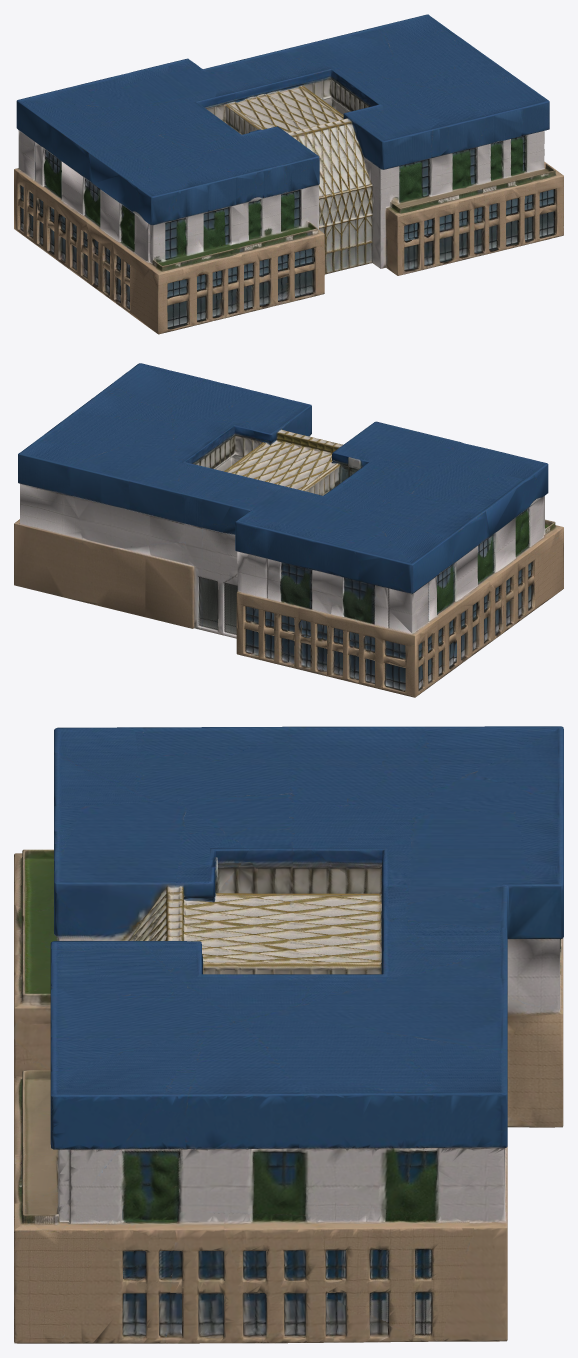
File: bluehall_lod1.glb
The picture shows the model from 3 angles, top to bottom: view 1: azimuth 30°, elevation 25°; view 2: azimuth 150°, elevation 25°; view 3: azimuth 270°, elevation 25°; orthographic projection. The views are drawn at different scales.
Parts seen in each view (by area): view 1: mesh_node; view 2: mesh_node; view 3: mesh_node.
Part boxes in pixels (left/top/right/bottom): mesh_node: left=14, top=14, right=563, bottom=334; mesh_node: left=14, top=363, right=563, bottom=697; mesh_node: left=14, top=726, right=563, bottom=1343.
Size of the model in its own units: 1.9 by 0.5775 by 1.17.
1 material, 1 textured.
